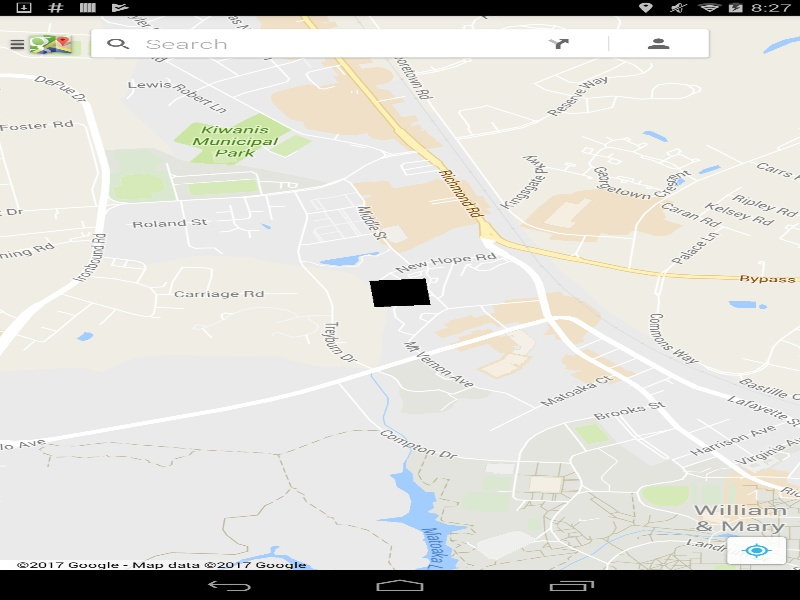Button: (509, 30, 608, 57), (609, 30, 708, 57), (722, 534, 791, 566)
Input: (145, 30, 509, 57)
